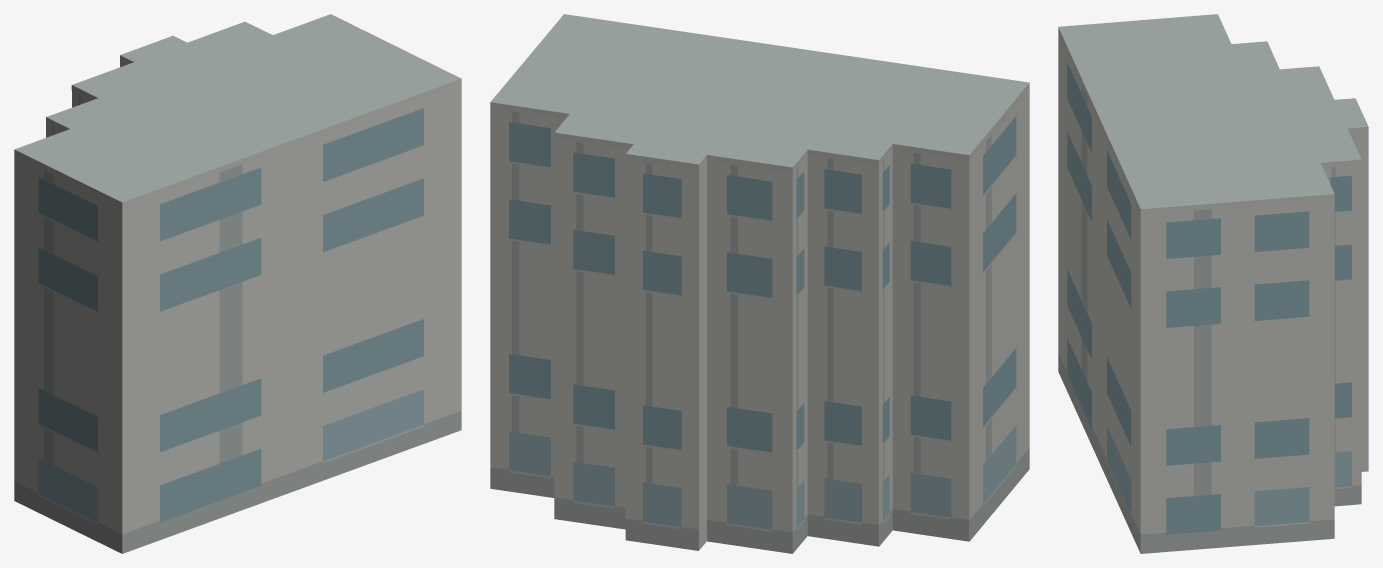
File: residential-30b32b0f-00a8-4d31-b4b1-bb818b3c3bed.glb
3 renders of one model, left to right at view 1: azimuth 30°, elevation 25°; view 2: azimuth 150°, elevation 25°; view 3: azimuth 270°, elevation 25°, orthographic. The views are drawn at different scales.
Parts seen in each view (by area): view 1: residential-30b32b0f-00a8-4d31-b4b1-bb818b3c3bed.tmp; view 2: residential-30b32b0f-00a8-4d31-b4b1-bb818b3c3bed.tmp; view 3: residential-30b32b0f-00a8-4d31-b4b1-bb818b3c3bed.tmp.
Boxes of the visible parts, x1,y1,x2,y2 form: residential-30b32b0f-00a8-4d31-b4b1-bb818b3c3bed.tmp: (14,14,461,553); residential-30b32b0f-00a8-4d31-b4b1-bb818b3c3bed.tmp: (490,14,1029,553); residential-30b32b0f-00a8-4d31-b4b1-bb818b3c3bed.tmp: (1058,14,1368,553).
Size of the model in its own units: 18.54 by 15.25 by 12.46.
